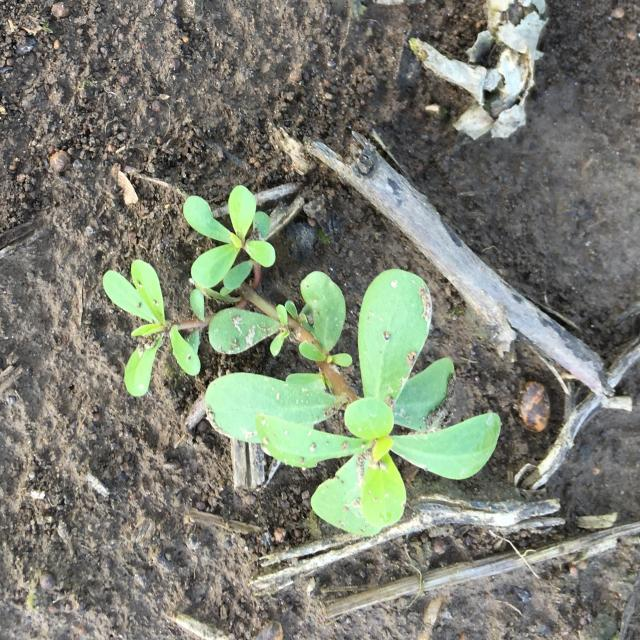Purslane: (103, 185, 501, 536)
